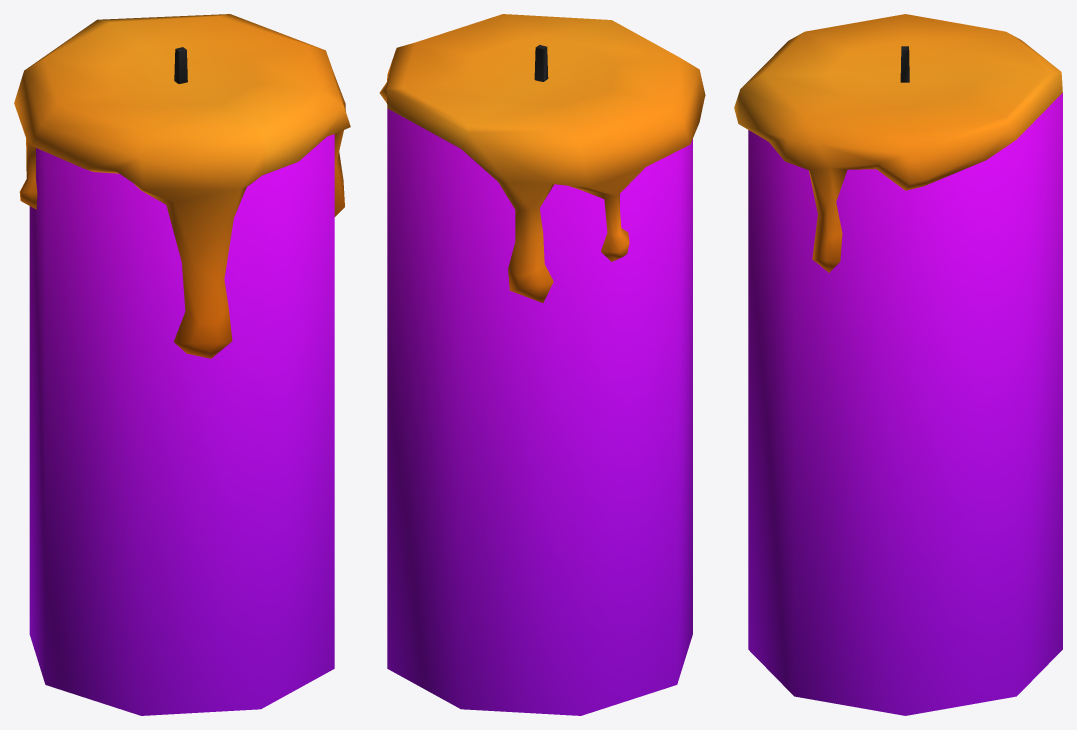
The model's file is Pink_candle.fbx.
The picture shows the model from 3 angles, left to right: view 1: azimuth 30°, elevation 25°; view 2: azimuth 150°, elevation 25°; view 3: azimuth 270°, elevation 25°; orthographic projection.
Parts seen in each view (by area): view 1: Pink_candle; view 2: Pink_candle; view 3: Pink_candle.
Boxes of the visible parts, <box> form: Pink_candle: <box>14,14,350,715</box>; Pink_candle: <box>379,14,705,715</box>; Pink_candle: <box>734,14,1062,715</box>.
Bounding box in the file's own units: 2.99 × 5.75 × 2.85.
